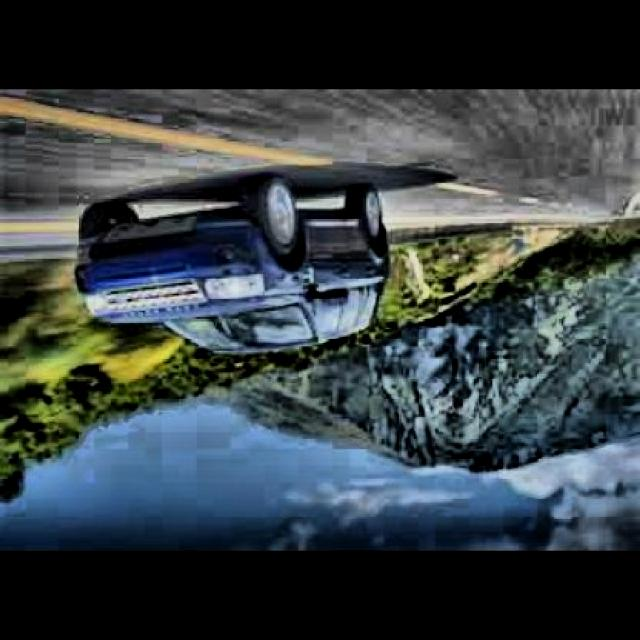blue: (10, 195, 396, 367)
